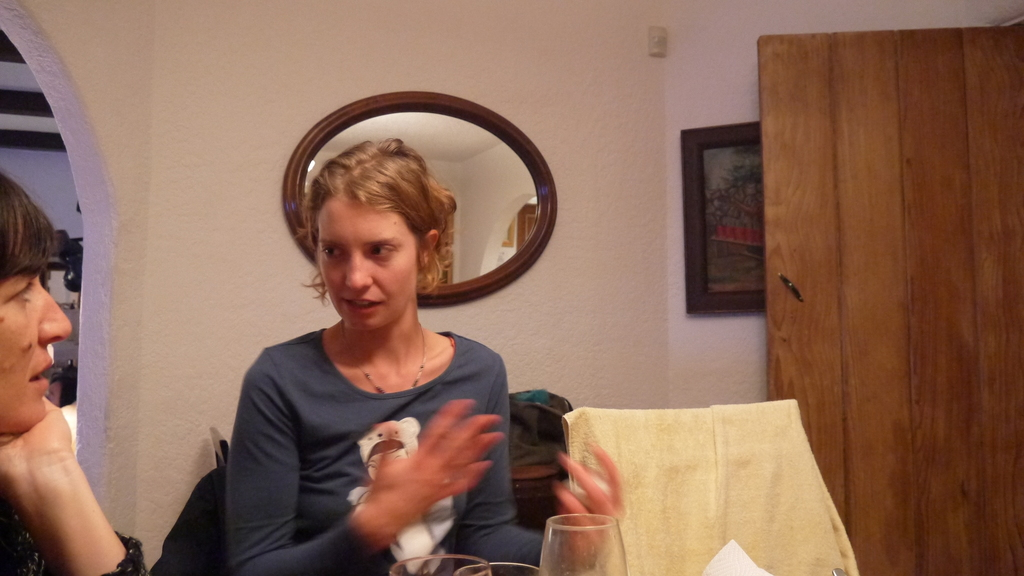Human_hand: (0, 369, 127, 545), (368, 394, 505, 525), (553, 442, 630, 566)
